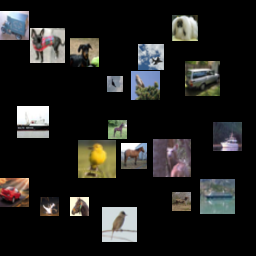airplane: (158, 54, 193, 89), (209, 171, 225, 187)
automobile: (105, 142, 131, 168)
bird: (57, 203, 95, 241), (10, 116, 48, 154), (194, 129, 226, 161), (153, 182, 185, 214), (140, 108, 169, 137), (41, 13, 63, 35)
cat: (214, 3, 249, 38), (209, 66, 231, 88)
deer: (18, 159, 56, 197), (145, 7, 180, 42)
dog: (72, 167, 98, 193), (127, 199, 146, 218)
frog: (0, 31, 32, 63)
ship: (51, 49, 73, 71)
